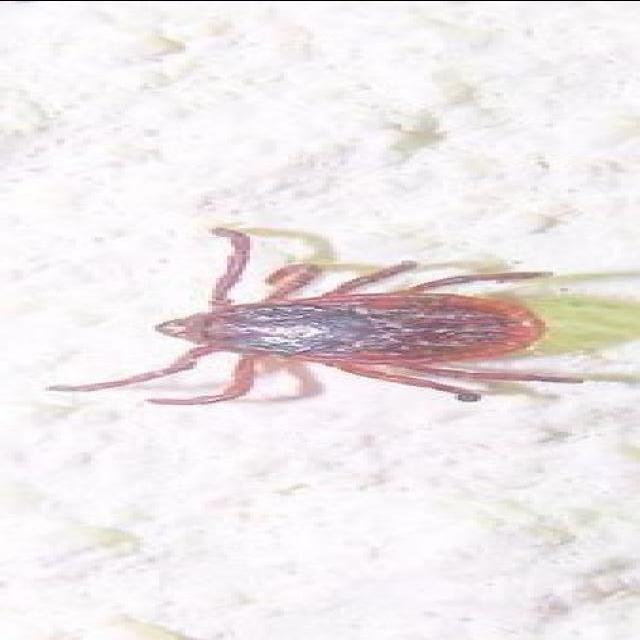Rhipicephalus Sanguineus-F: (45, 226, 587, 404)
